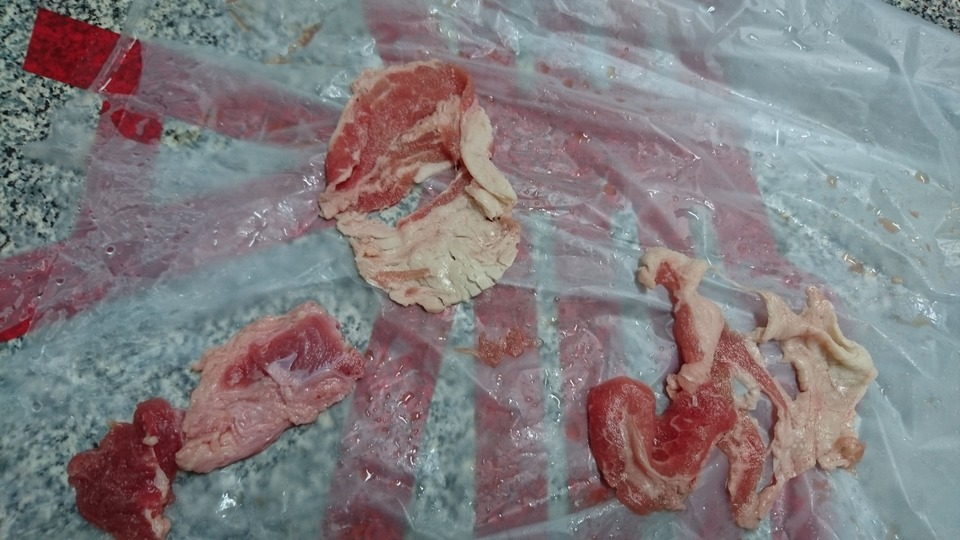restructured meat: (580, 248, 875, 540), (90, 299, 358, 540), (322, 61, 527, 313)
